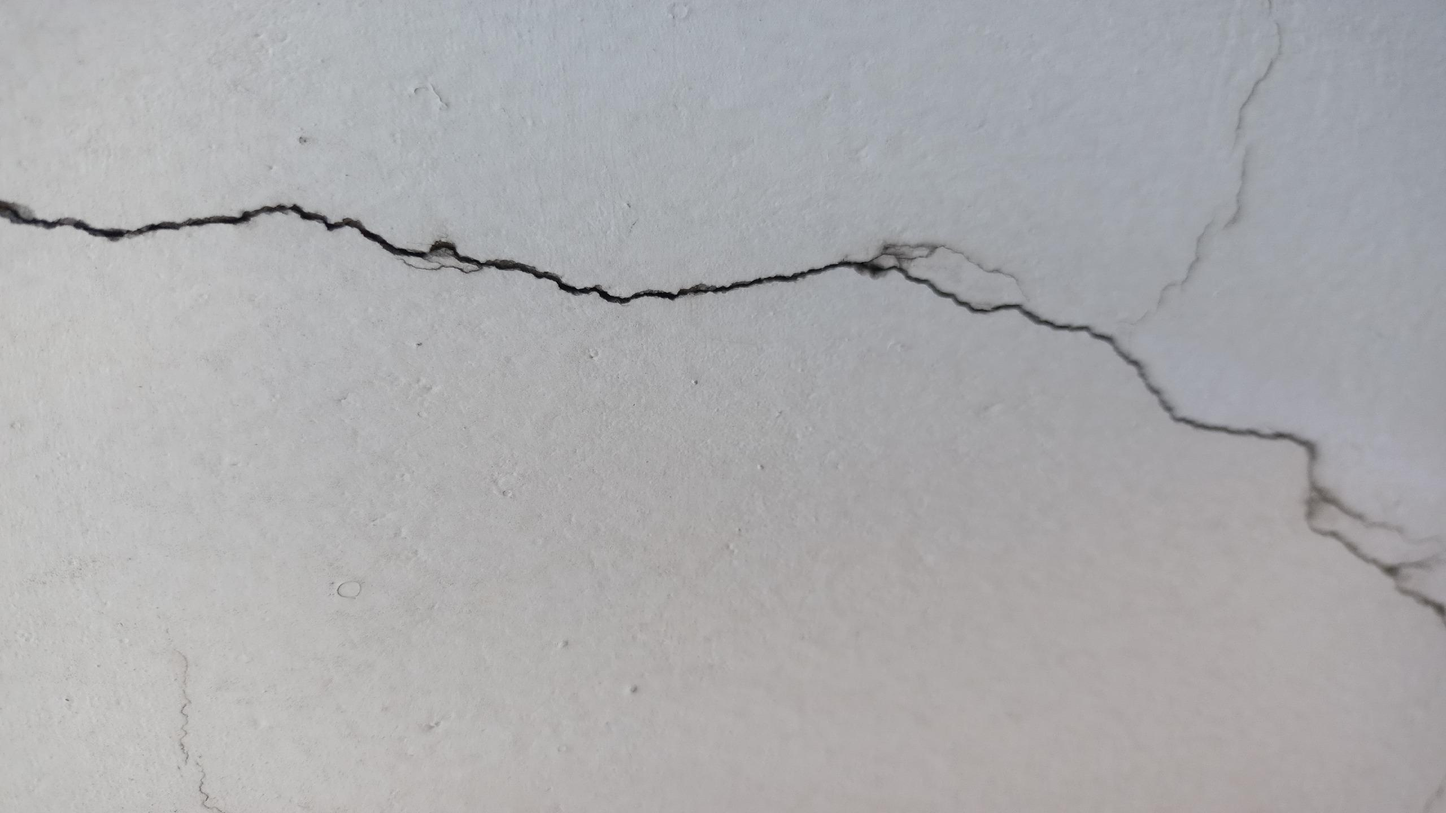crack: (2, 194, 1444, 615)
